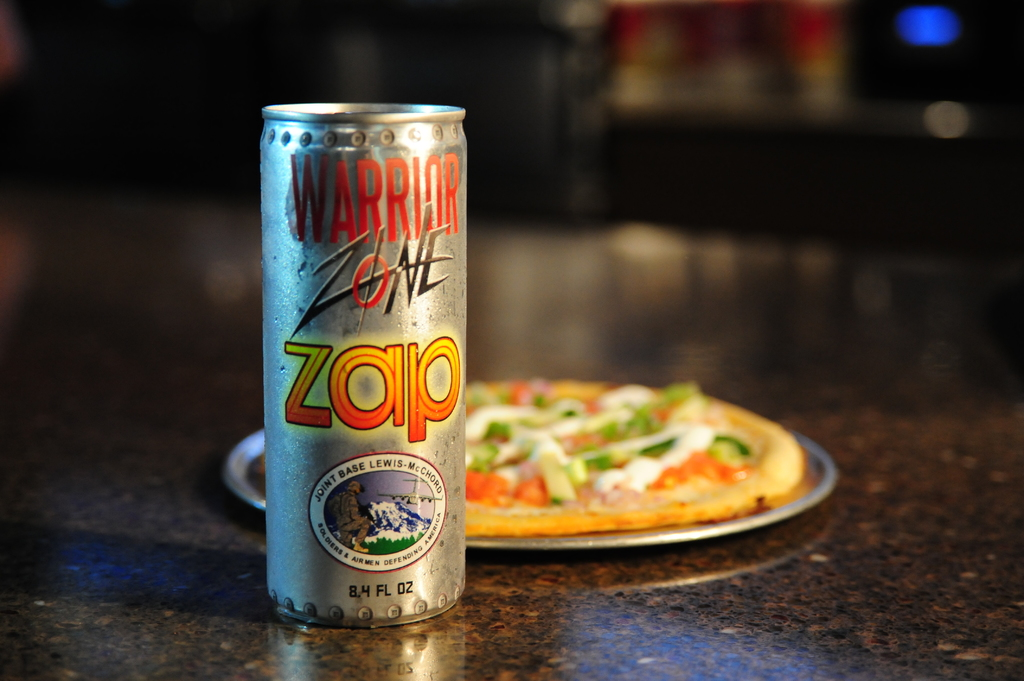Pizza: (253, 374, 807, 528)
